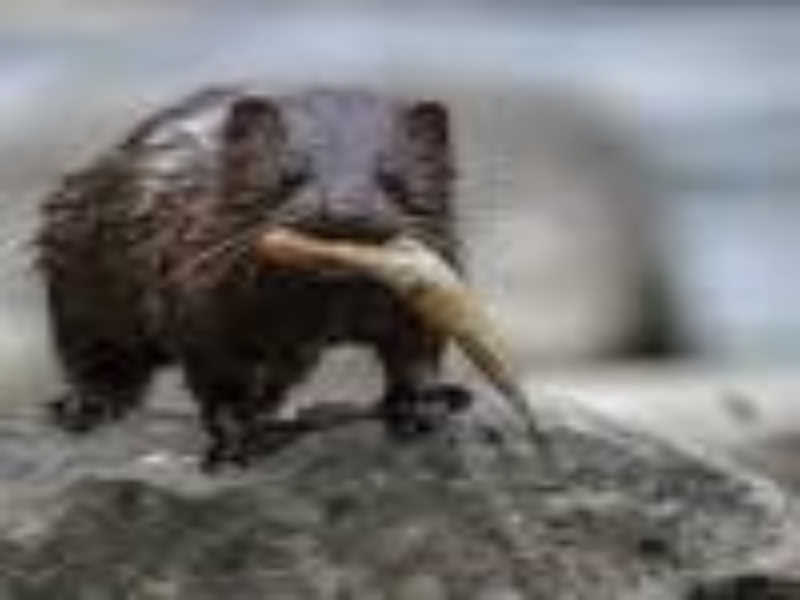minkish: (32, 77, 479, 482)
